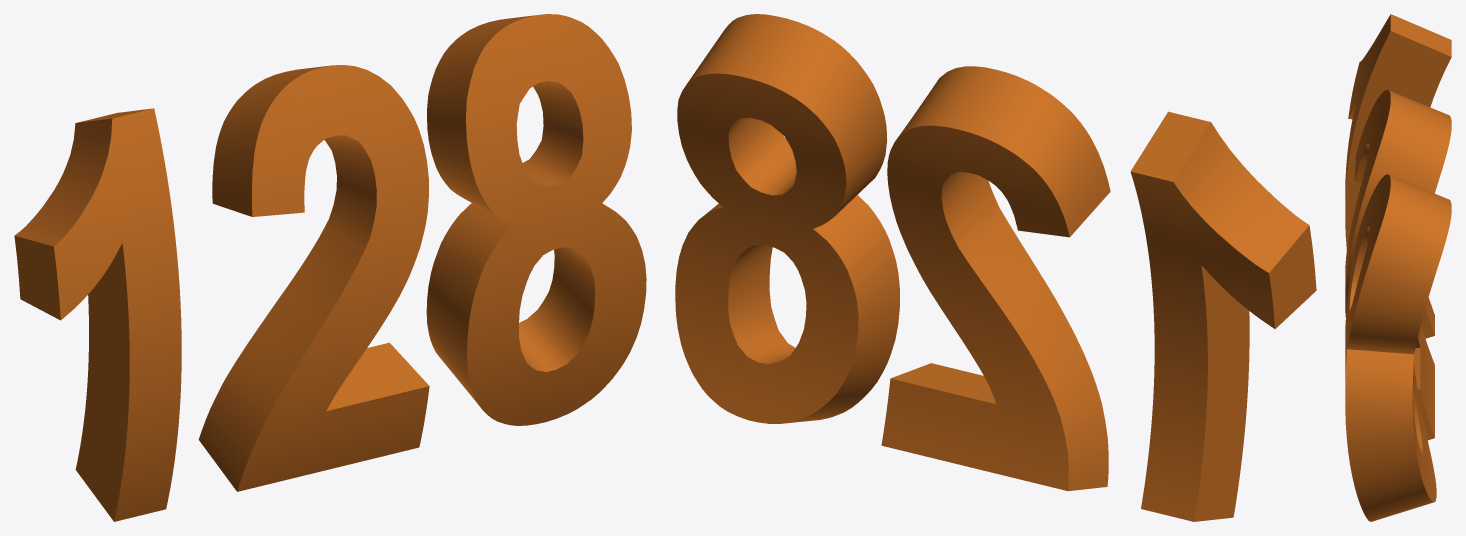
The model's file is item_128.glb.
3 views of the same model, side by side, from view 1: azimuth 30°, elevation 25°; view 2: azimuth 150°, elevation 25°; view 3: azimuth 270°, elevation 25° (orthographic). The views are drawn at different scales.
Parts seen in each view (by area): view 1: Text; view 2: Text; view 3: Text.
Part boxes in pixels (x1,y1,x2,y2): Text: [14, 14, 646, 521]; Text: [675, 14, 1316, 521]; Text: [1345, 14, 1451, 521].
Bounding box in the file's own units: 1.08 × 0.7029 × 0.2055.
